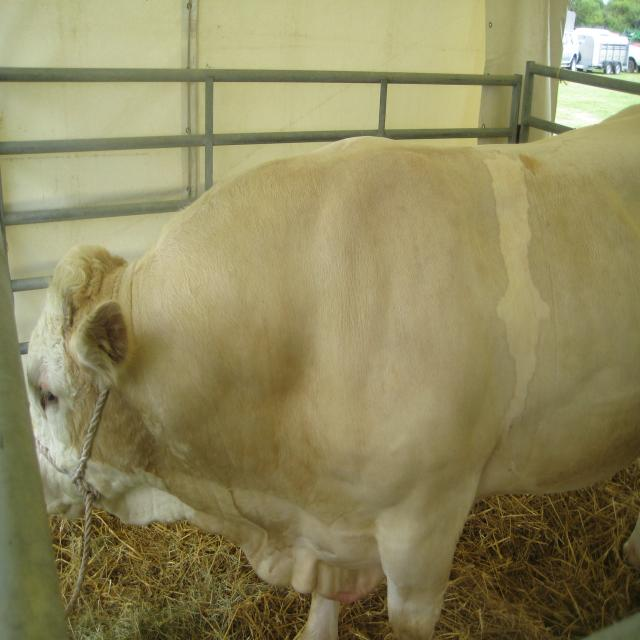cow: (28, 107, 640, 638)
